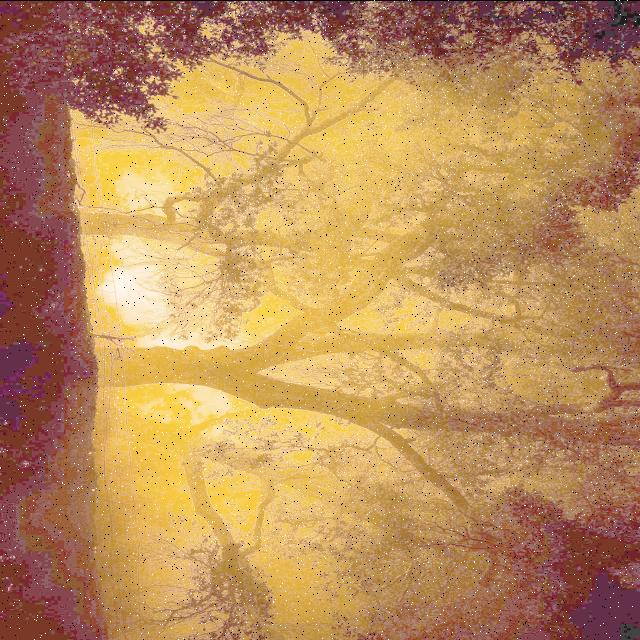api: (107, 273, 147, 305)
